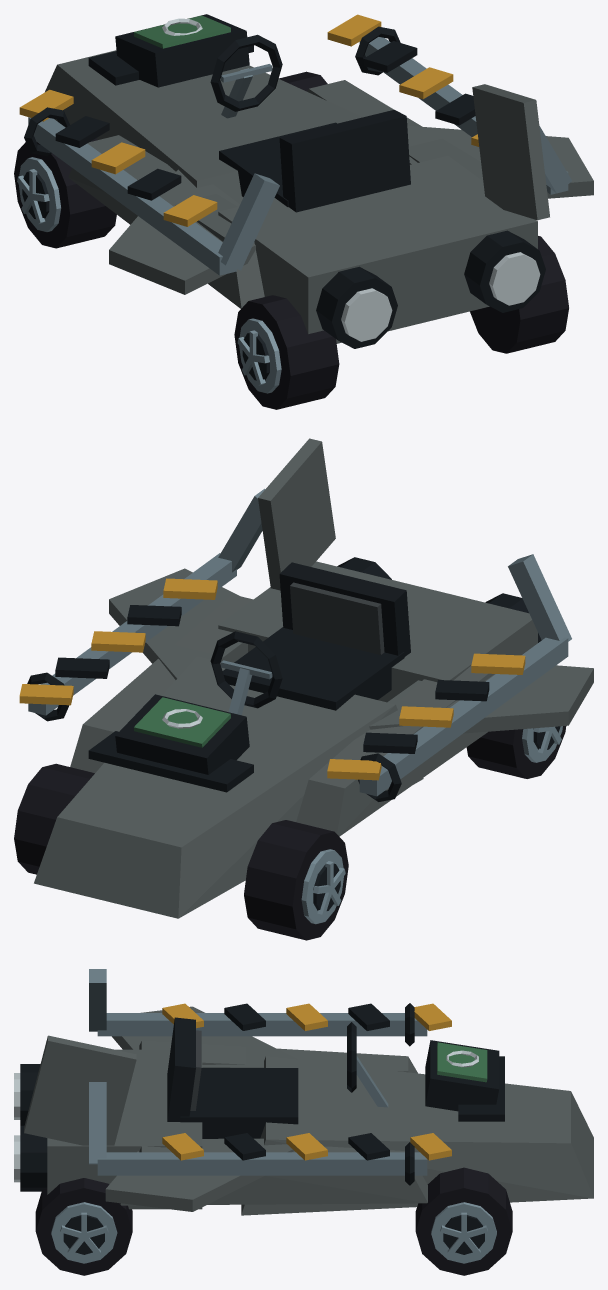
Rendered from kart.glb.
3 renders of one model, top to bottom at view 1: azimuth 30°, elevation 25°; view 2: azimuth 150°, elevation 25°; view 3: azimuth 270°, elevation 25°, orthographic. The views are drawn at different scales.
Visible parts, largest first — view 1: identity-shuttle-shuttle-flight-planform, identity-shuttle-driver-cockpit, identity-shuttle-motif-pipes, identity-shuttle-motif-hazard-stripes, wheel-rear-left, wheel-front-left, identity-shuttle-motif-scanner, wheel-rear-right, wheel-front-right; view 2: identity-shuttle-shuttle-flight-planform, identity-shuttle-driver-cockpit, identity-shuttle-motif-pipes, identity-shuttle-motif-hazard-stripes, wheel-front-left, identity-shuttle-motif-scanner, wheel-front-right, wheel-rear-left; view 3: identity-shuttle-shuttle-flight-planform, identity-shuttle-motif-pipes, identity-shuttle-driver-cockpit, wheel-front-right, wheel-rear-right, identity-shuttle-motif-hazard-stripes, identity-shuttle-motif-scanner.
Boxes of the visible parts, box(x1,y1,x2,y2) form: identity-shuttle-shuttle-flight-planform: box(45, 45, 593, 348); identity-shuttle-driver-cockpit: box(210, 34, 410, 212); identity-shuttle-motif-pipes: box(24, 26, 571, 275); identity-shuttle-motif-hazard-stripes: box(19, 14, 479, 226); wheel-rear-left: box(234, 295, 339, 409); wheel-front-left: box(14, 138, 116, 248); identity-shuttle-motif-scanner: box(115, 14, 249, 87); wheel-rear-right: box(470, 236, 568, 353); wheel-front-right: box(278, 71, 327, 91); identity-shuttle-shuttle-flight-planform: box(34, 438, 593, 918); identity-shuttle-driver-cockpit: box(210, 562, 410, 715); identity-shuttle-motif-pipes: box(27, 488, 571, 801); identity-shuttle-motif-hazard-stripes: box(19, 578, 525, 780); wheel-front-left: box(244, 820, 348, 940); identity-shuttle-motif-scanner: box(115, 694, 249, 774); wheel-front-right: box(14, 763, 94, 874); wheel-rear-left: box(466, 726, 566, 778); identity-shuttle-shuttle-flight-planform: box(14, 1006, 593, 1215); identity-shuttle-motif-pipes: box(89, 969, 427, 1185); identity-shuttle-driver-cockpit: box(167, 1017, 388, 1138); wheel-front-right: box(415, 1167, 512, 1275); wheel-rear-right: box(35, 1178, 132, 1275); identity-shuttle-motif-hazard-stripes: box(162, 1003, 451, 1160); identity-shuttle-motif-scanner: box(425, 1040, 499, 1111).
Bounding box in the file's own units: 2.36 × 1.28 × 2.99.
